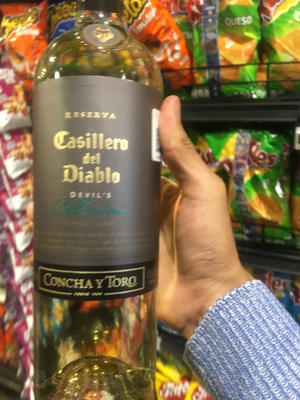casillero del diablo devils collection verde: (24, 5, 184, 400)
